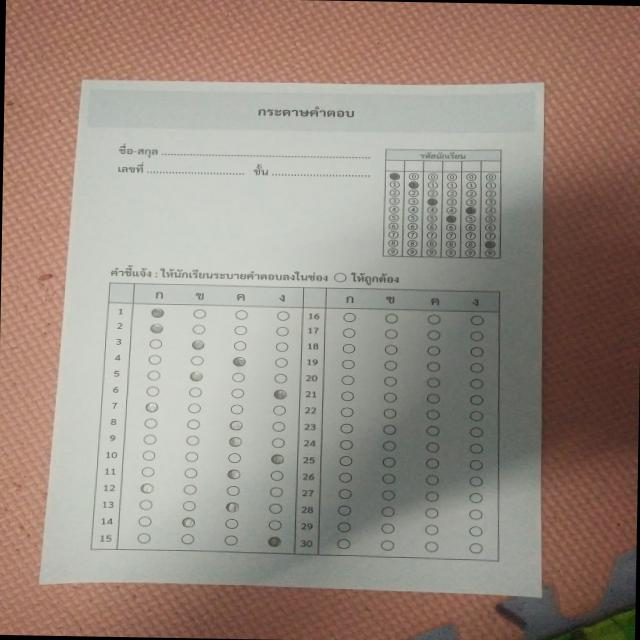Choice: (84, 274, 518, 564)
ID: (375, 142, 512, 264)
